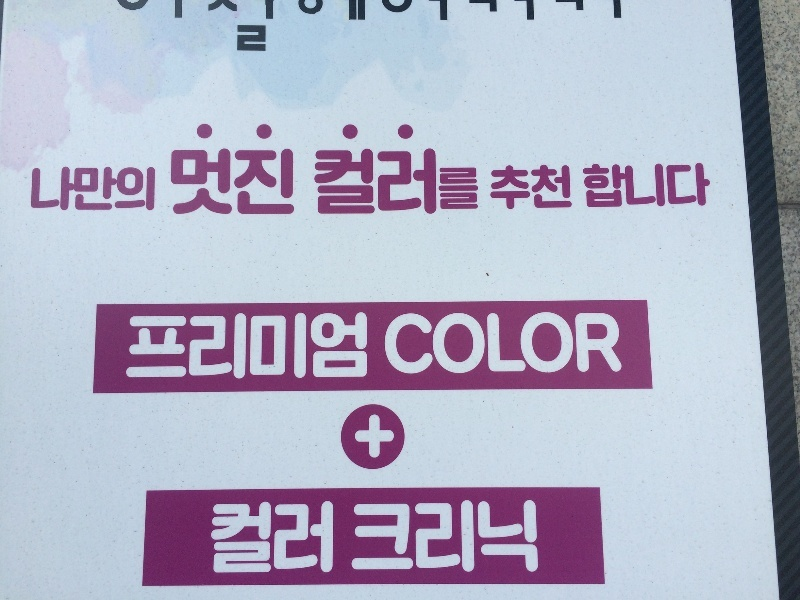text: (353, 499, 368, 576), (369, 499, 384, 576), (385, 499, 400, 576), (401, 499, 416, 576), (417, 499, 432, 576), (433, 499, 448, 576), (449, 499, 464, 576), (465, 499, 480, 576), (481, 499, 496, 576), (497, 499, 512, 576), (513, 499, 528, 576), (209, 501, 224, 577), (225, 501, 240, 577), (241, 501, 256, 577), (257, 501, 272, 577), (273, 501, 288, 577), (289, 501, 304, 577), (305, 501, 320, 577), (129, 312, 144, 383), (145, 312, 160, 383), (161, 312, 176, 383), (177, 312, 192, 383), (193, 312, 208, 383), (209, 312, 224, 383), (225, 312, 240, 383), (241, 312, 256, 383), (257, 312, 272, 383), (273, 312, 288, 383), (289, 312, 304, 383), (305, 312, 320, 383), (321, 312, 336, 383), (337, 312, 352, 383), (353, 312, 368, 383), (321, 148, 336, 217), (337, 148, 352, 217), (353, 148, 368, 217), (369, 148, 384, 217), (385, 148, 400, 217), (401, 148, 416, 217), (417, 148, 432, 217), (177, 149, 192, 216), (193, 149, 208, 216), (209, 149, 224, 216), (225, 149, 240, 216), (241, 149, 256, 216), (257, 149, 272, 216), (273, 149, 288, 216), (385, 310, 400, 376), (401, 310, 416, 376), (417, 310, 432, 376), (433, 310, 448, 376), (449, 310, 464, 376), (465, 310, 480, 376), (481, 310, 496, 376), (497, 310, 512, 376), (513, 310, 528, 376), (529, 310, 544, 376), (545, 310, 560, 376), (561, 310, 576, 376), (577, 310, 592, 376), (593, 310, 608, 376), (609, 310, 624, 376), (321, 501, 334, 577), (529, 499, 540, 576), (129, 1, 144, 55), (145, 1, 160, 55), (161, 1, 176, 55), (177, 1, 192, 55), (193, 1, 208, 55), (209, 1, 224, 55), (225, 1, 240, 55), (241, 1, 256, 55), (257, 1, 272, 55), (273, 1, 288, 55), (289, 1, 304, 55), (305, 1, 320, 55), (321, 1, 336, 55), (337, 1, 352, 55), (353, 1, 368, 55), (369, 1, 384, 55), (385, 1, 400, 55), (401, 1, 416, 55), (417, 1, 432, 55), (433, 1, 448, 55), (449, 1, 464, 55), (465, 1, 480, 55), (481, 1, 496, 55), (497, 1, 512, 55), (513, 1, 528, 55), (529, 1, 544, 55), (545, 1, 560, 55), (561, 1, 576, 55), (577, 1, 592, 55), (593, 1, 608, 55), (609, 1, 624, 55), (33, 164, 48, 215), (49, 164, 64, 215), (65, 164, 80, 215), (81, 164, 96, 215), (97, 164, 112, 215), (113, 164, 128, 215), (129, 164, 144, 215), (114, 1, 128, 55), (497, 164, 512, 212), (513, 164, 528, 212), (529, 164, 544, 212), (545, 164, 560, 212), (593, 162, 608, 210), (609, 162, 624, 210), (625, 162, 640, 210), (641, 162, 656, 210), (657, 162, 672, 210), (673, 162, 688, 210), (689, 162, 704, 210), (353, 415, 368, 461), (369, 415, 384, 461), (449, 168, 464, 212), (465, 168, 479, 212), (145, 164, 157, 215), (561, 164, 572, 212), (581, 162, 592, 210), (385, 415, 396, 461), (313, 148, 320, 217), (705, 162, 715, 210), (169, 149, 176, 216), (438, 168, 448, 212), (289, 149, 295, 216), (489, 164, 496, 212), (433, 148, 437, 217), (380, 310, 384, 376), (625, 1, 627, 55), (30, 164, 32, 215), (351, 499, 352, 576), (369, 312, 370, 383), (625, 310, 626, 376)
